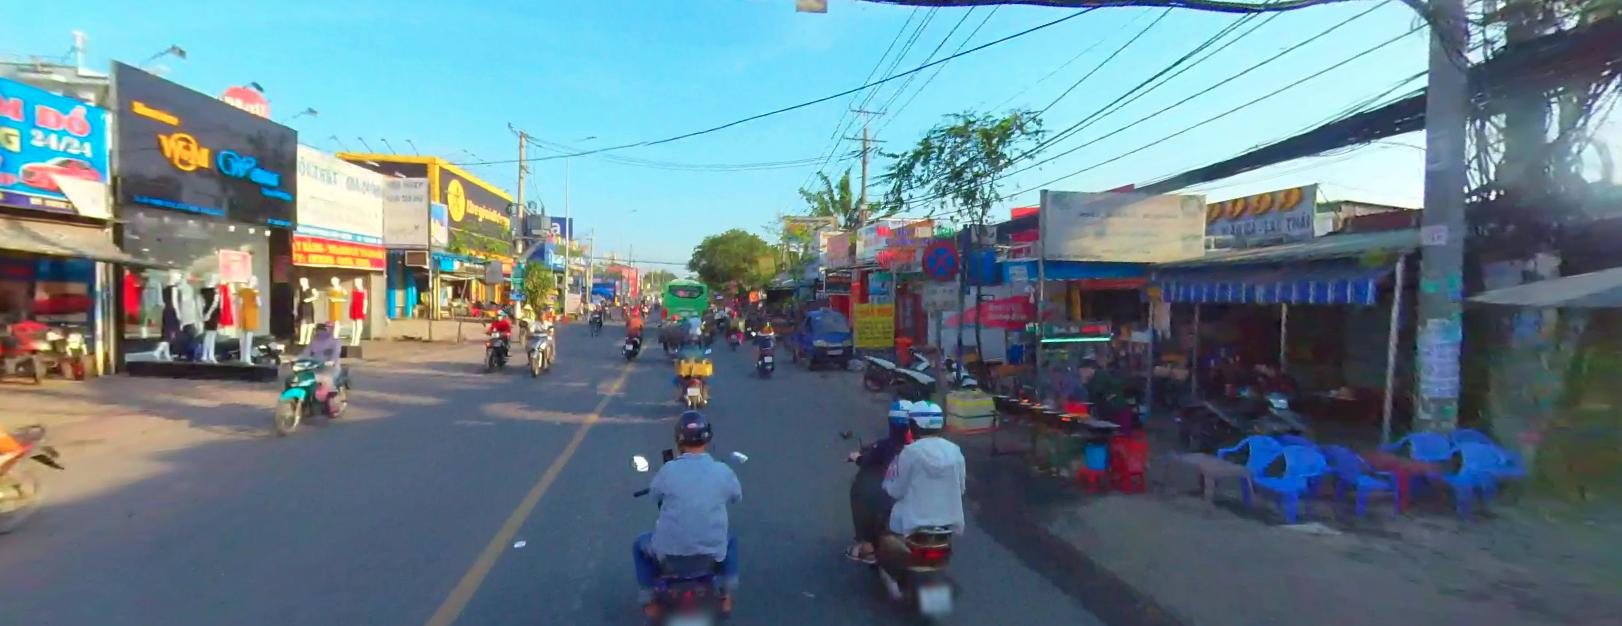Cam dung va do: (921, 239, 958, 279)
